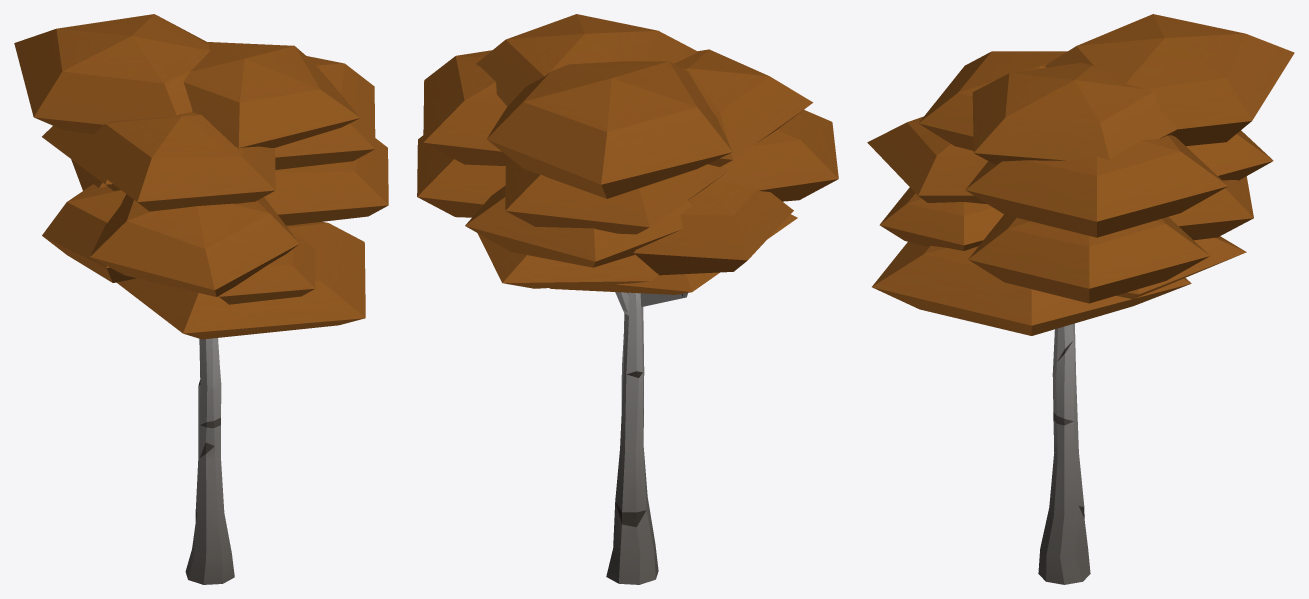
File: arbol13.fbx
3 views of the same model, side by side, from view 1: azimuth 30°, elevation 25°; view 2: azimuth 150°, elevation 25°; view 3: azimuth 270°, elevation 25° (orthographic). The views are drawn at different scales.
Parts seen in each view (by area): view 1: arbol13; view 2: arbol13; view 3: arbol13.
Part boxes in pixels (box(x1,y1,x2,y2)): arbol13: box(14, 14, 388, 584); arbol13: box(417, 14, 838, 584); arbol13: box(867, 14, 1294, 584).
Size of the model in its own units: 1848 by 2592 by 1928.
